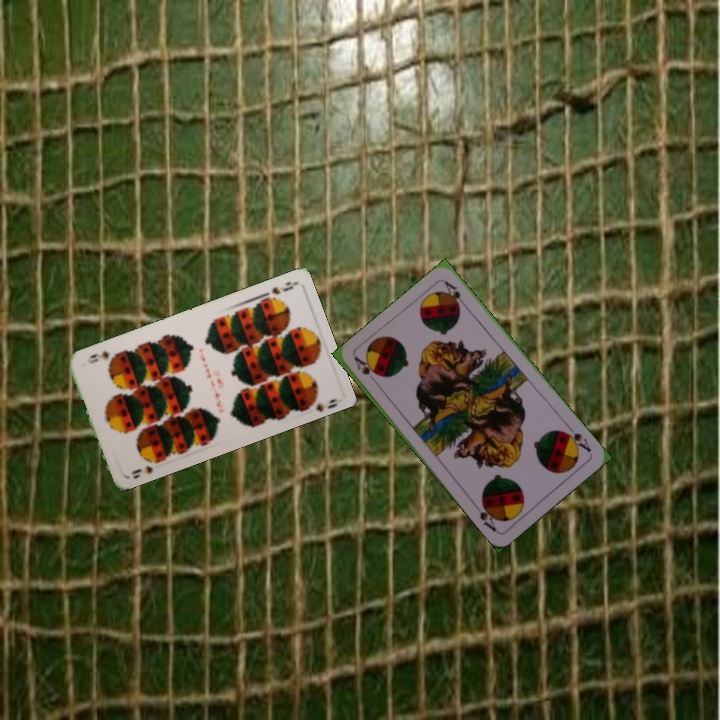S9: (258, 277, 297, 300), (127, 455, 162, 477)
SA: (559, 421, 594, 455), (350, 353, 381, 387)
